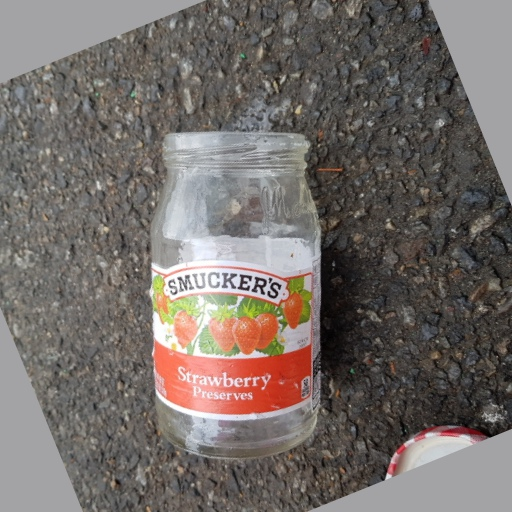Glass_5: (146, 119, 326, 458)
